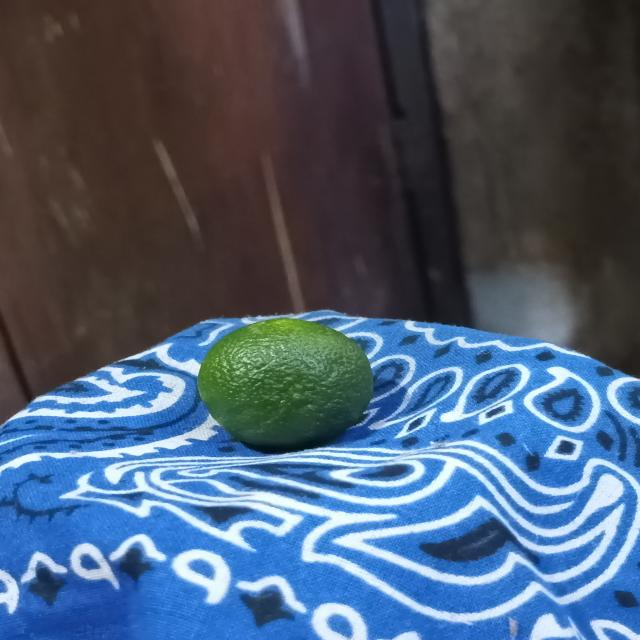heathy: (193, 310, 385, 450)
